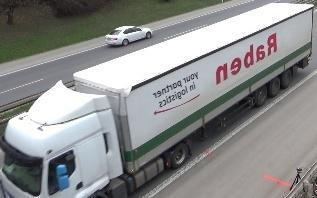Car: (104, 25, 153, 47)
Truck: (0, 3, 315, 198)
